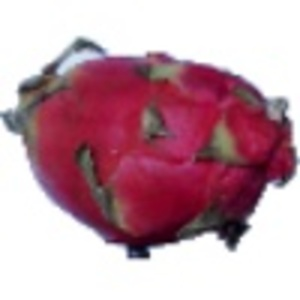pitaia: (1, 35, 300, 261)
